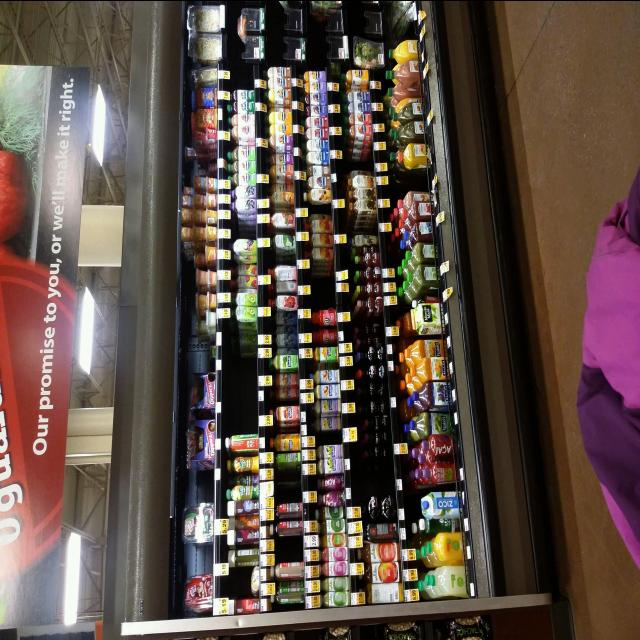empty_space: (222, 363, 254, 429), (355, 460, 389, 491), (391, 167, 429, 194), (184, 542, 212, 574), (309, 271, 333, 299), (274, 471, 298, 498), (188, 341, 212, 364), (188, 478, 208, 502), (275, 536, 301, 554), (342, 153, 370, 169), (232, 64, 252, 84)
